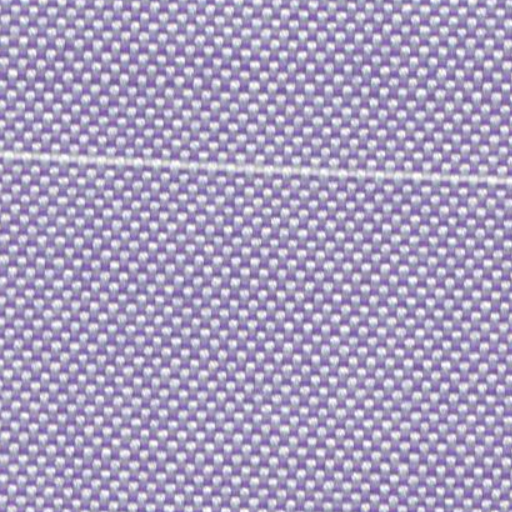TuoSha: (8, 128, 502, 218)
